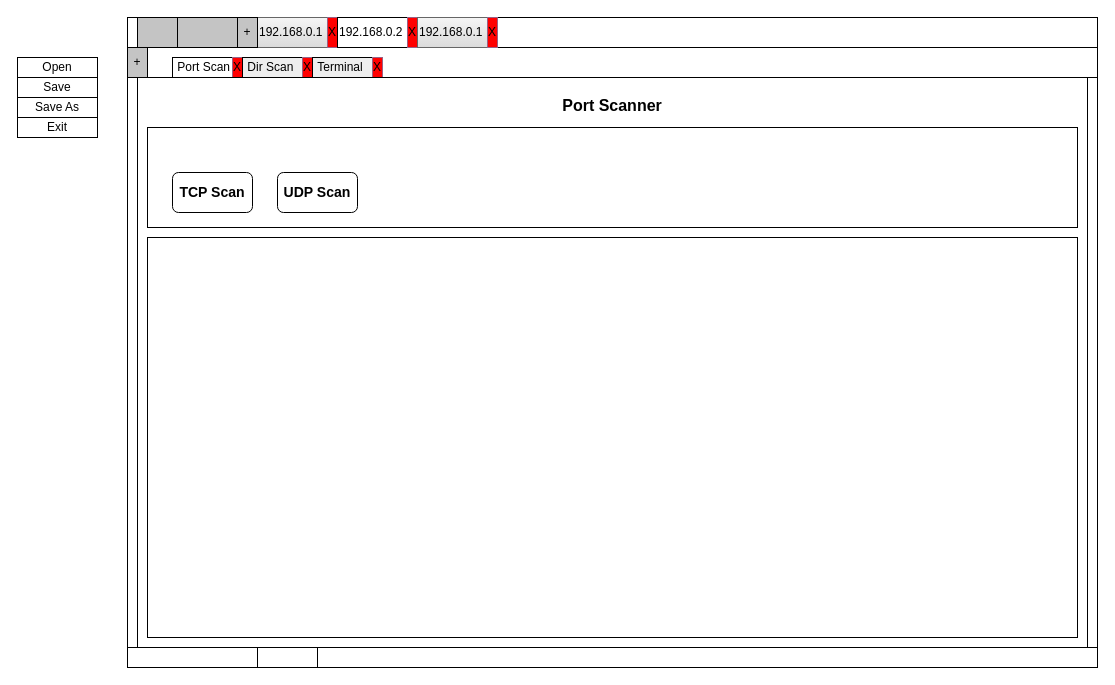
This 1115x685 diagram has some shape labels left out. The box of each missing label's shape, as (x1, y1, x2, y2) in pixels:
'd' to toggle dark mode: (126, 646, 258, 668)
's' to split: (256, 646, 318, 668)
File: (136, 16, 178, 48)
Network: (176, 16, 238, 48)
Output Log Nmap scan results: Port 22 Port 80 Port 443 Port 3389: (146, 236, 1078, 638)
Scans: (146, 126, 1078, 228)
